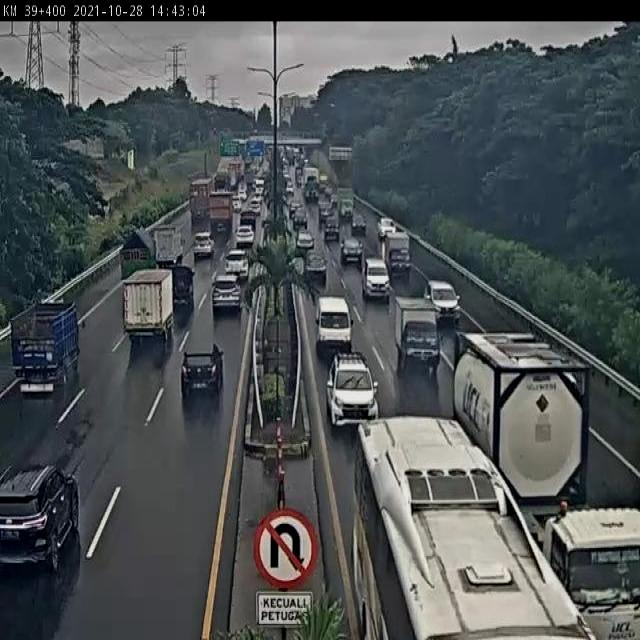Bus: (349, 415, 592, 640)
Car: (326, 352, 379, 428), (178, 345, 224, 394), (423, 279, 459, 328), (361, 257, 390, 300), (211, 274, 242, 313), (223, 250, 250, 283), (305, 250, 328, 283), (339, 237, 362, 264), (193, 232, 215, 259), (234, 224, 255, 248), (377, 218, 397, 240), (296, 230, 315, 252), (352, 214, 368, 236), (292, 206, 307, 228), (249, 199, 262, 216)
Truck: (450, 326, 639, 640), (10, 301, 87, 397), (121, 268, 176, 345), (395, 298, 441, 372), (119, 224, 157, 289), (156, 224, 187, 270), (386, 234, 412, 282), (208, 190, 234, 237), (189, 177, 213, 227)
Van: (313, 296, 354, 360)
